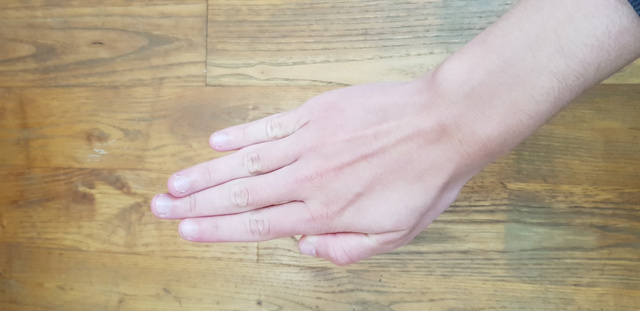Paper: (115, 75, 490, 271)
